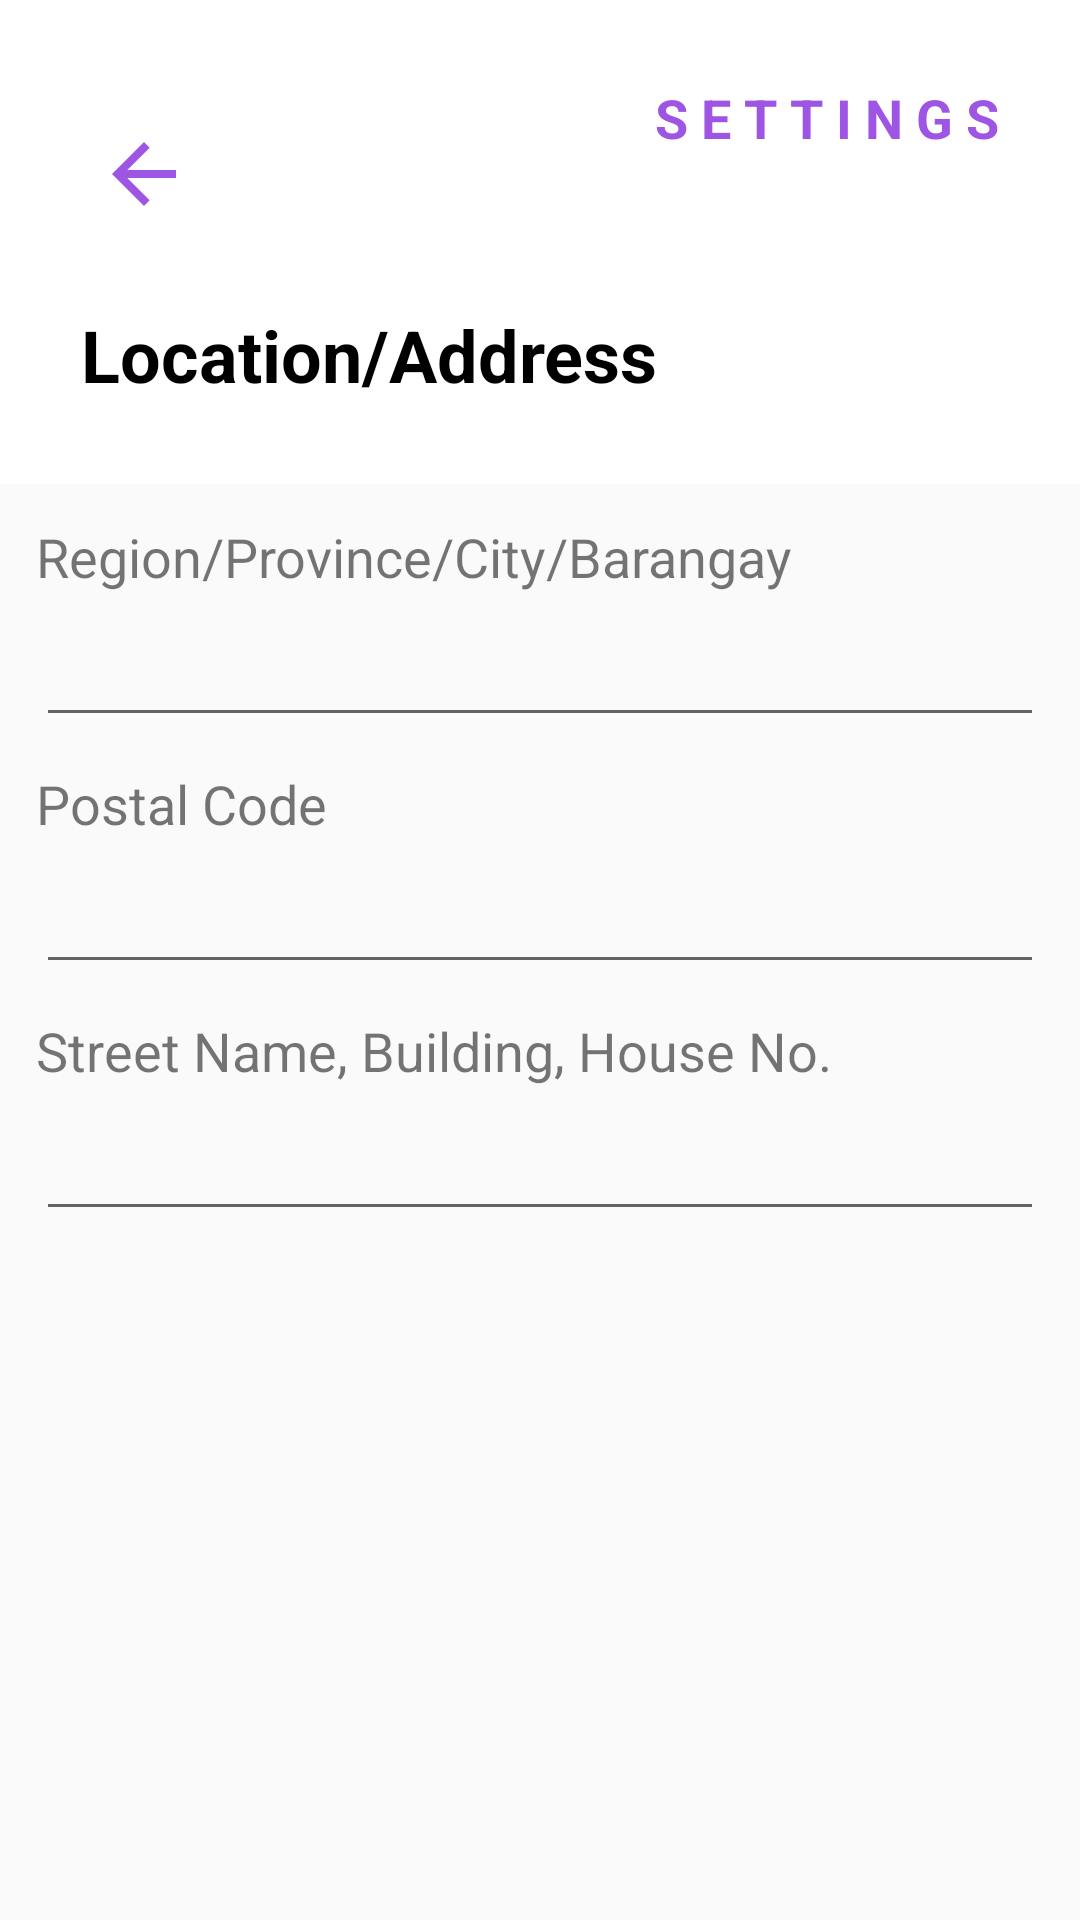

Point at icon controls on the screen. Image size 1080px x 1920px, points as (x=x, y=y).
Back button: (x=144, y=174)
